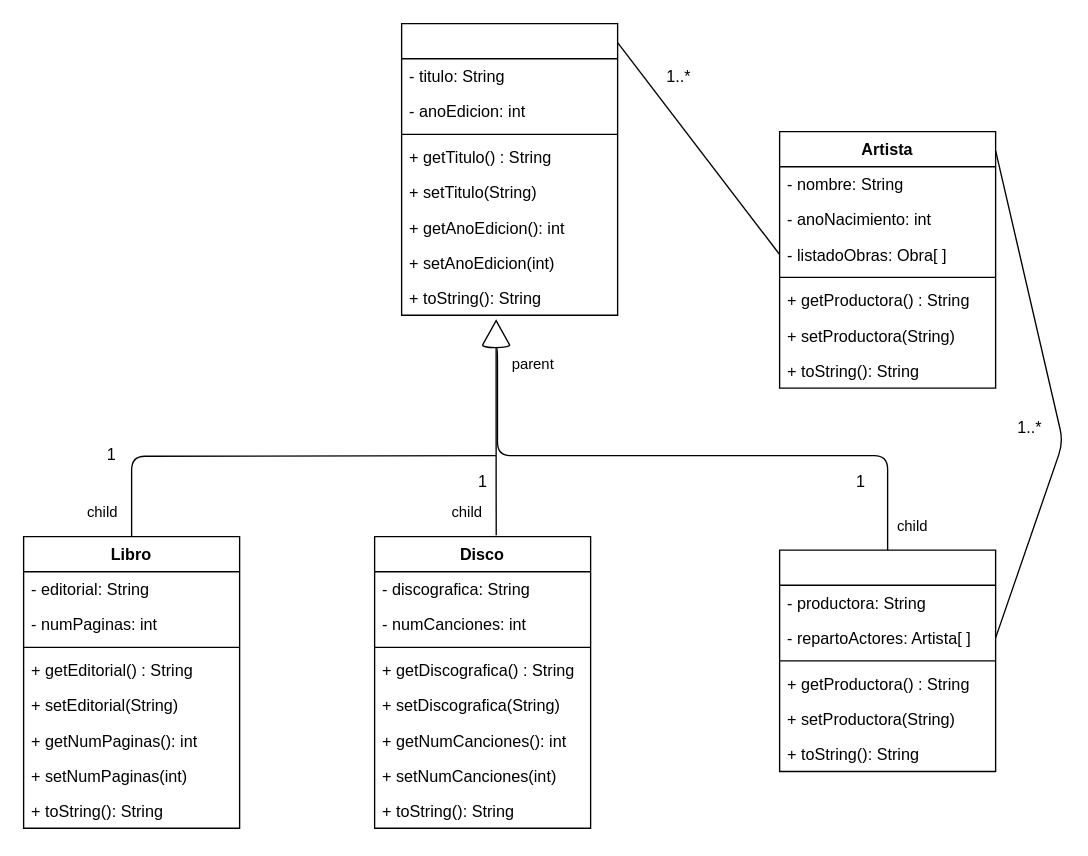
The diagram is 1088 pixels wide and 856 high, and some of its shapes have lost their labels. The shapes that lost their labels are listed below. From the top down, each one's box as (x1, y1, x2, y2) in pixels, then its label:
(400, 22, 618, 315): Obra
(778, 549, 996, 772): Pelicula
